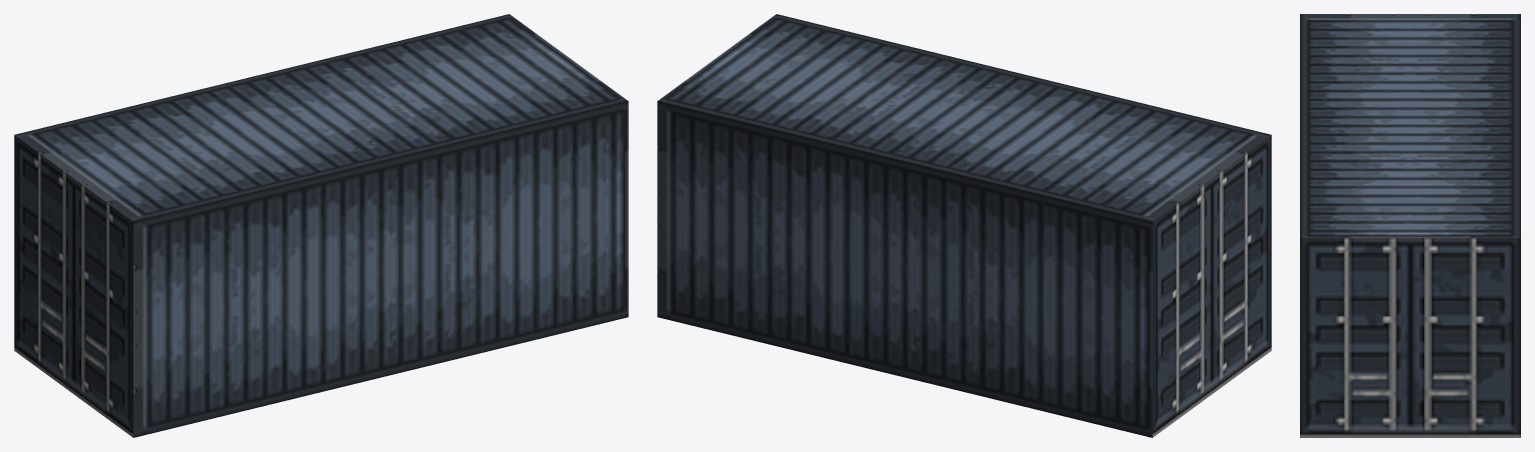
The model's file is containers_mesh.fbx.
The picture shows the model from 3 angles, left to right: view 1: azimuth 30°, elevation 25°; view 2: azimuth 150°, elevation 25°; view 3: azimuth 270°, elevation 25°; orthographic projection. The views are drawn at different scales.
Parts seen in each view (by area): view 1: container01; view 2: container01; view 3: container01.
Boxes of the visible parts, x1,y1,x2,y2 form: container01: [14, 14, 628, 437]; container01: [657, 14, 1271, 437]; container01: [1300, 14, 1520, 437].
Bounding box in the file's own units: 1200 × 500 × 500.
